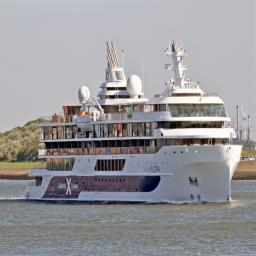cruises: (26, 30, 244, 210)
